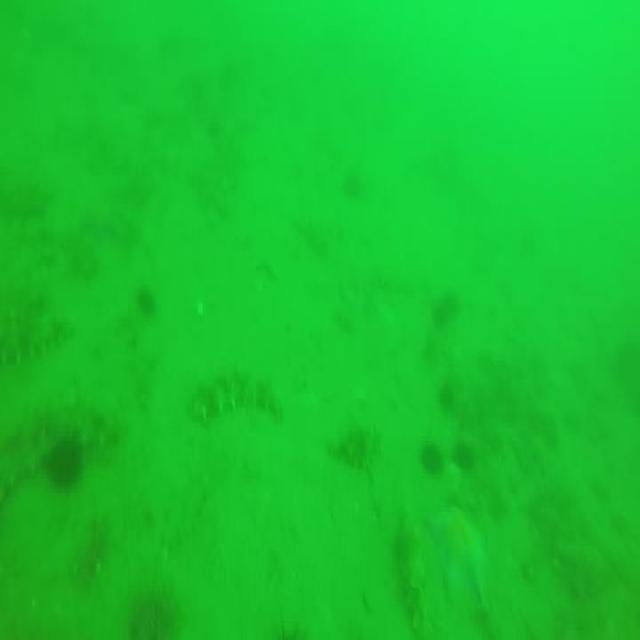echinus: (52, 441, 82, 485), (422, 442, 443, 479)
holothurian: (0, 398, 113, 499), (183, 370, 283, 420), (392, 521, 434, 640), (4, 292, 76, 359)
starfish: (430, 503, 486, 602)
